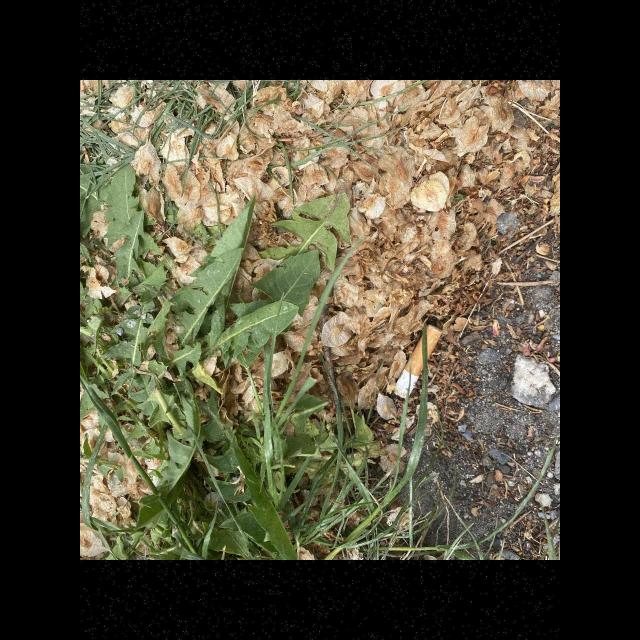cigarette: (392, 324, 442, 400)
